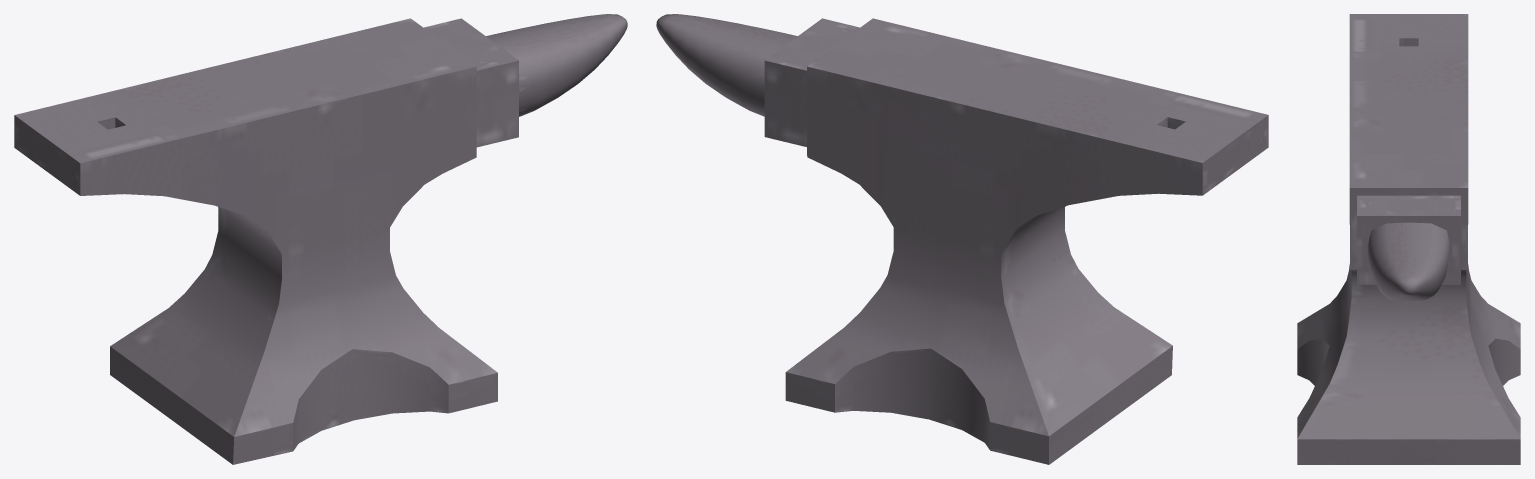
File: Anvil.glb
3 views of the same model, side by side, from view 1: azimuth 30°, elevation 25°; view 2: azimuth 150°, elevation 25°; view 3: azimuth 270°, elevation 25° (orthographic). The views are drawn at different scales.
Parts seen in each view (by area): view 1: Anvil; view 2: Anvil; view 3: Anvil.
Part boxes in pixels (x1,y1,x2,y2): Anvil: [14, 14, 627, 464]; Anvil: [656, 14, 1268, 464]; Anvil: [1297, 14, 1520, 464].
Size of the model in its own units: 1.08 by 0.556 by 0.4015.
1 material, 1 textured.
